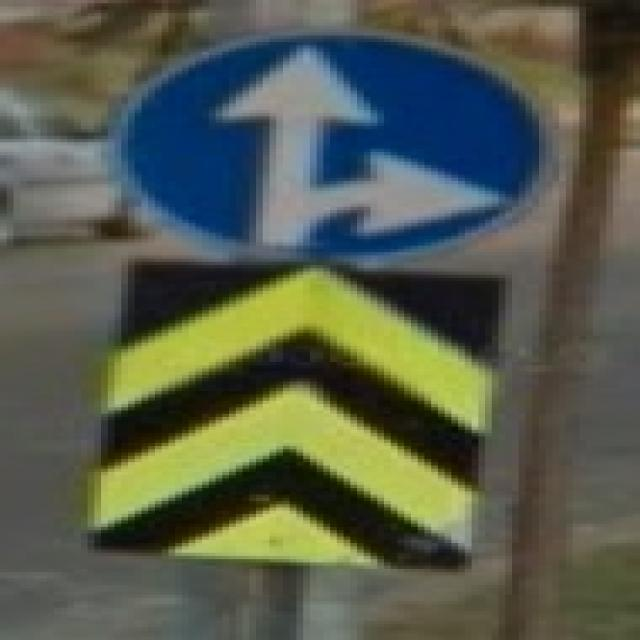Straight or Right: (106, 29, 537, 261)
